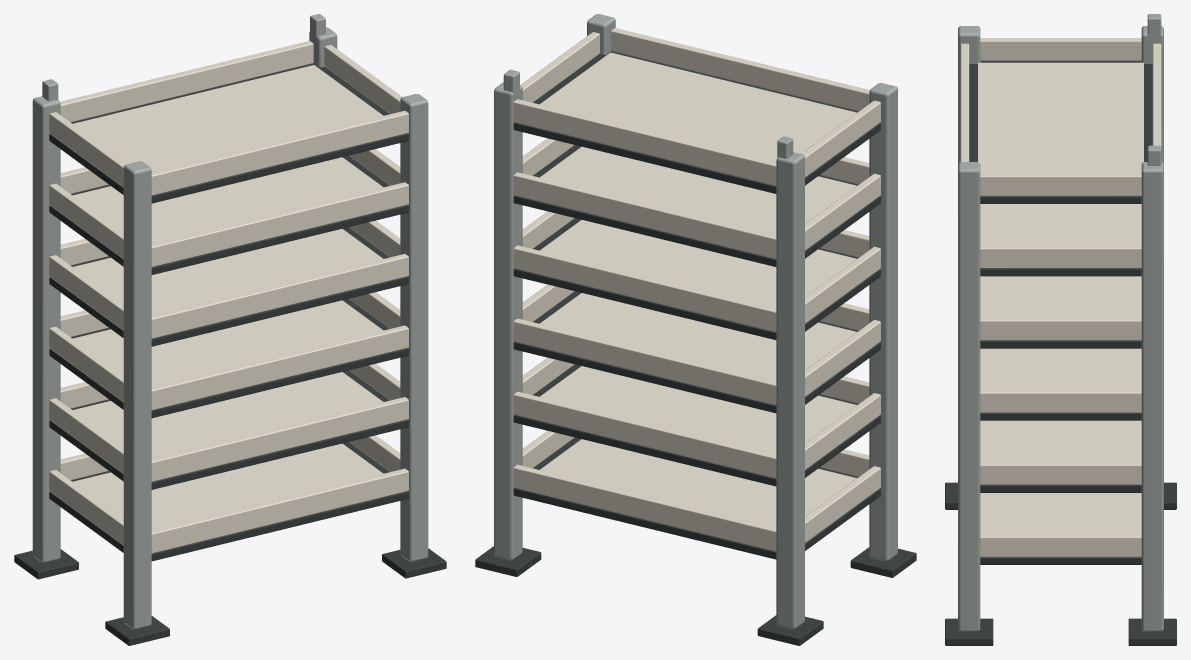
The model's file is museum-conservation-and-art-restoration-museum-conserv-230c3d7a__31900.glb.
3 renders of one model, left to right at view 1: azimuth 30°, elevation 25°; view 2: azimuth 150°, elevation 25°; view 3: azimuth 270°, elevation 25°, orthographic. The views are drawn at different scales.
Visible parts, largest first — view 1: museum-conservation-and-art-restoration-conservation-blotter (×3); view 2: museum-conservation-and-art-restoration-conservation-blotter (×3); view 3: museum-conservation-and-art-restoration-conservation-blotter (×3).
Boxes of the visible parts, <box> form: museum-conservation-and-art-restoration-conservation-blotter (×3): <box>14,14,446,645</box>; museum-conservation-and-art-restoration-conservation-blotter (×3): <box>475,14,916,645</box>; museum-conservation-and-art-restoration-conservation-blotter (×3): <box>945,14,1176,645</box>.
Size of the model in its own units: 1.07 by 1.55 by 0.67.
